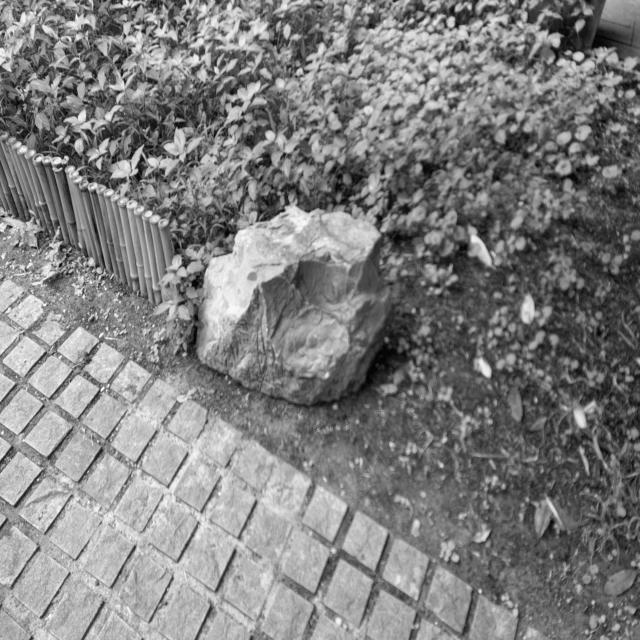Stone: (196, 209, 390, 404)
